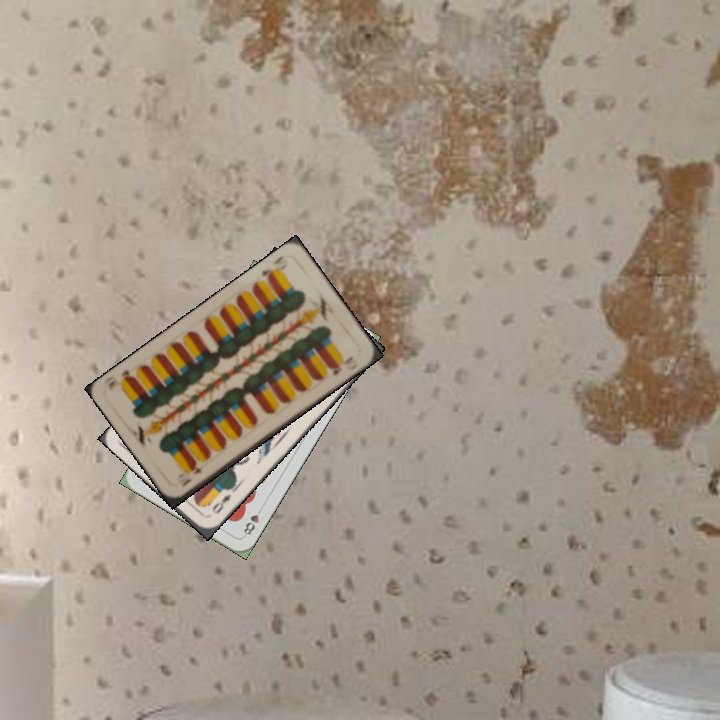E10: (257, 251, 288, 283), (177, 460, 209, 490)
EO: (208, 490, 234, 517)
H8: (239, 503, 265, 540)
